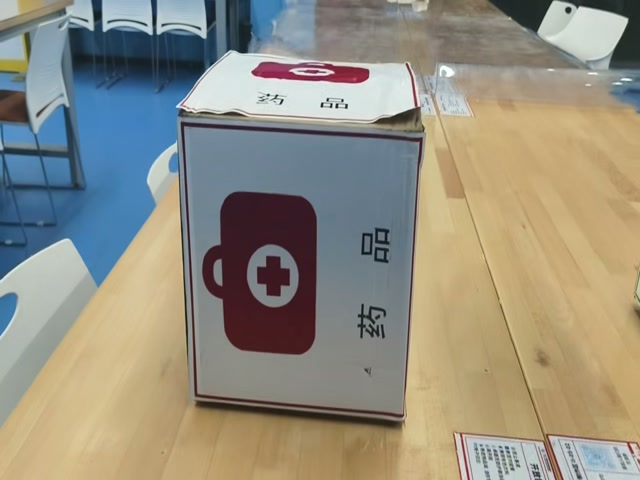Cube_medicine: (179, 44, 421, 142)
